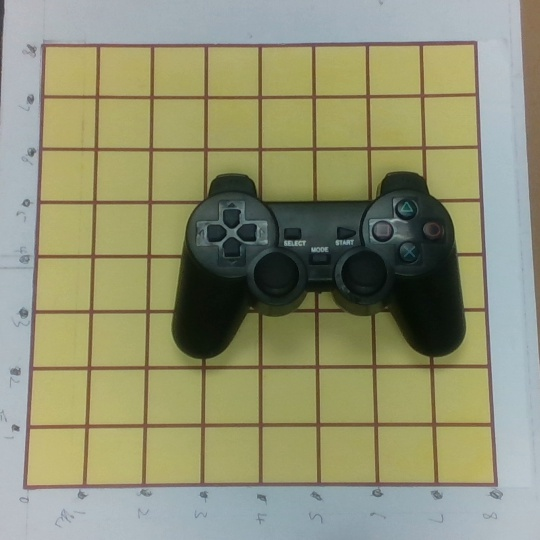remote: (168, 169, 470, 367)
